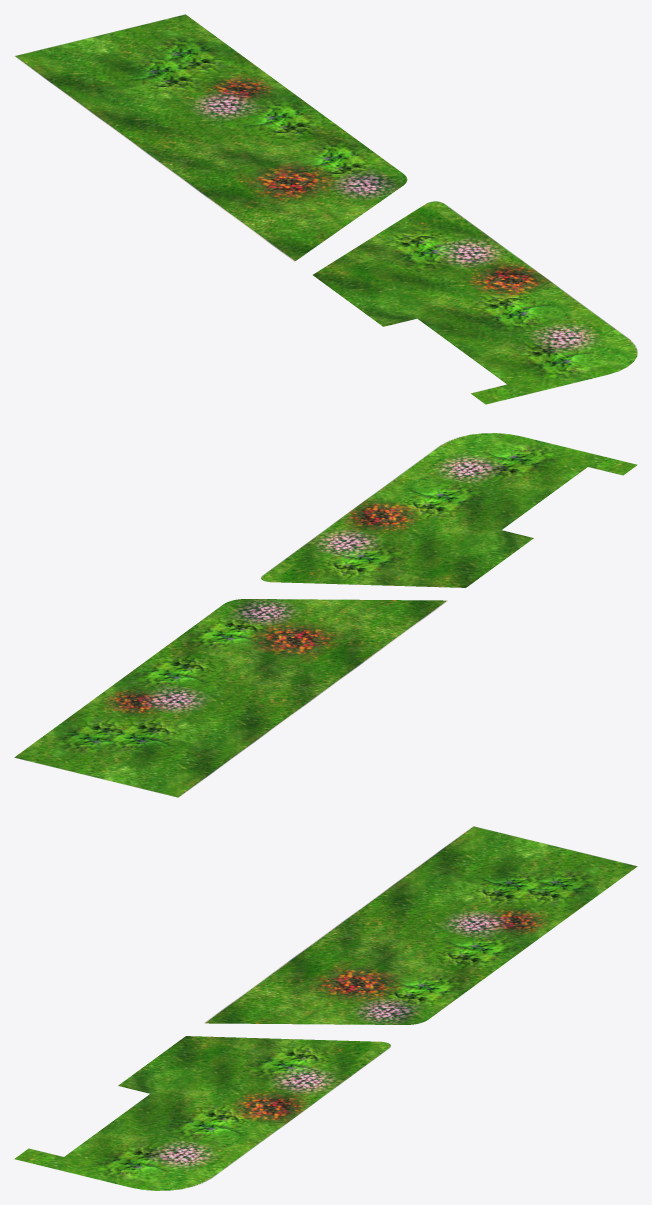
The model's file is green01.obj.
3 views of the same model, one above another, from view 1: azimuth 30°, elevation 25°; view 2: azimuth 150°, elevation 25°; view 3: azimuth 330°, elevation 25° (orthographic). The views are drawn at different scales.
Visible parts, largest first — view 1: green01; view 2: green01; view 3: green01.
Boxes of the visible parts, x1=… form: green01: x1=14, y1=14, x2=637, y2=404; green01: x1=14, y1=433, x2=637, y2=797; green01: x1=14, y1=826, x2=637, y2=1190.
Size of the model in its own units: 37.19 by 0 by 175.
1 material, 1 textured.
